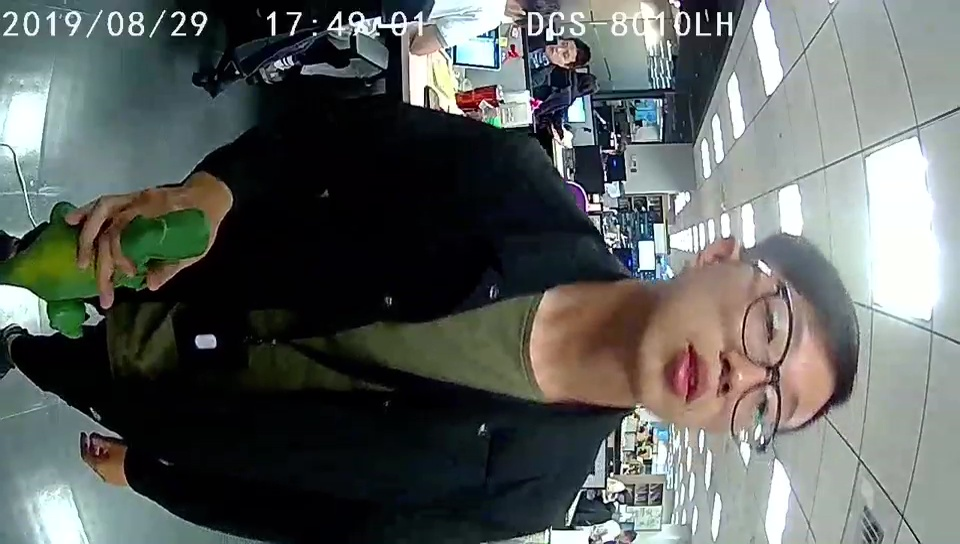rex: (11, 200, 211, 342)
